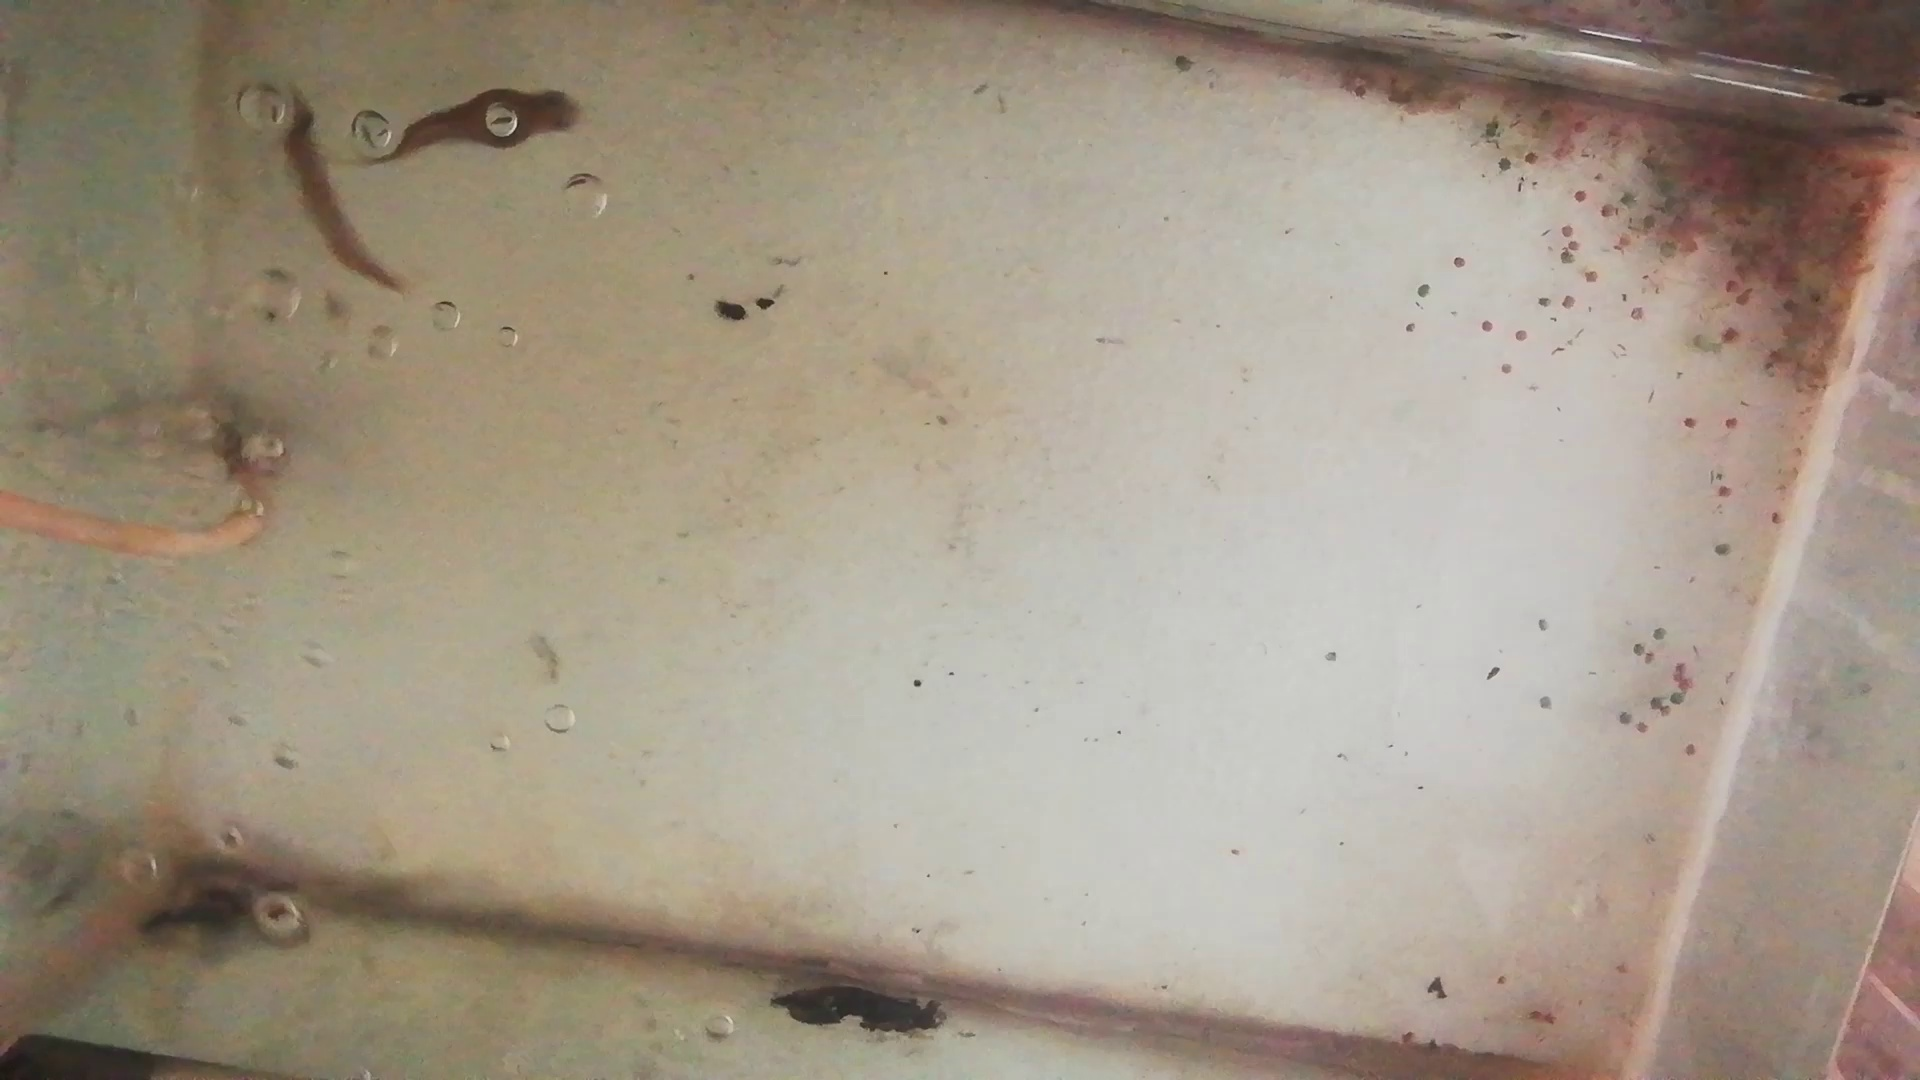fish: (270, 99, 396, 293), (352, 87, 593, 164)
